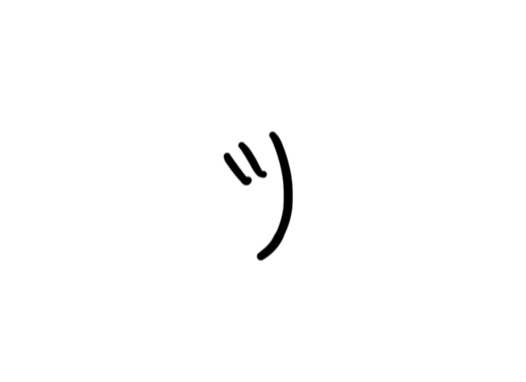tsu: (194, 116, 299, 267)
